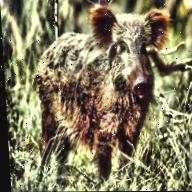boar: (18, 0, 191, 187)
